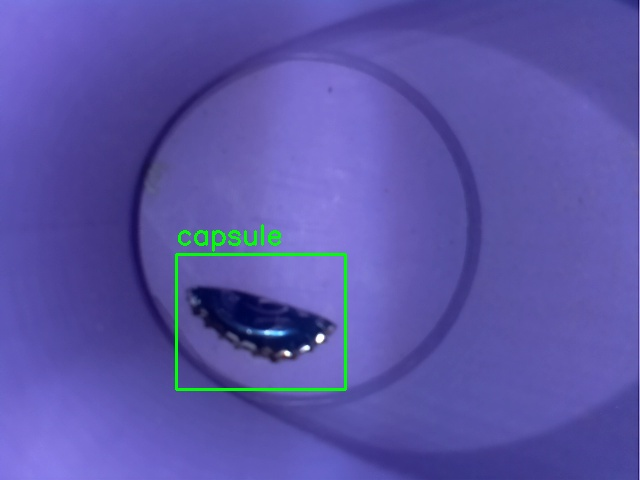capsule: (176, 254, 345, 389)
